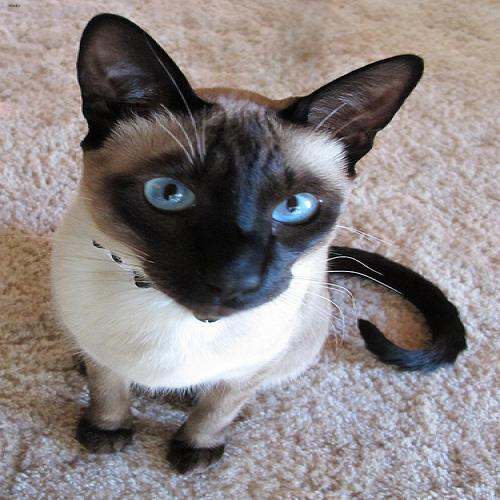siamese: (56, 1, 425, 338)
